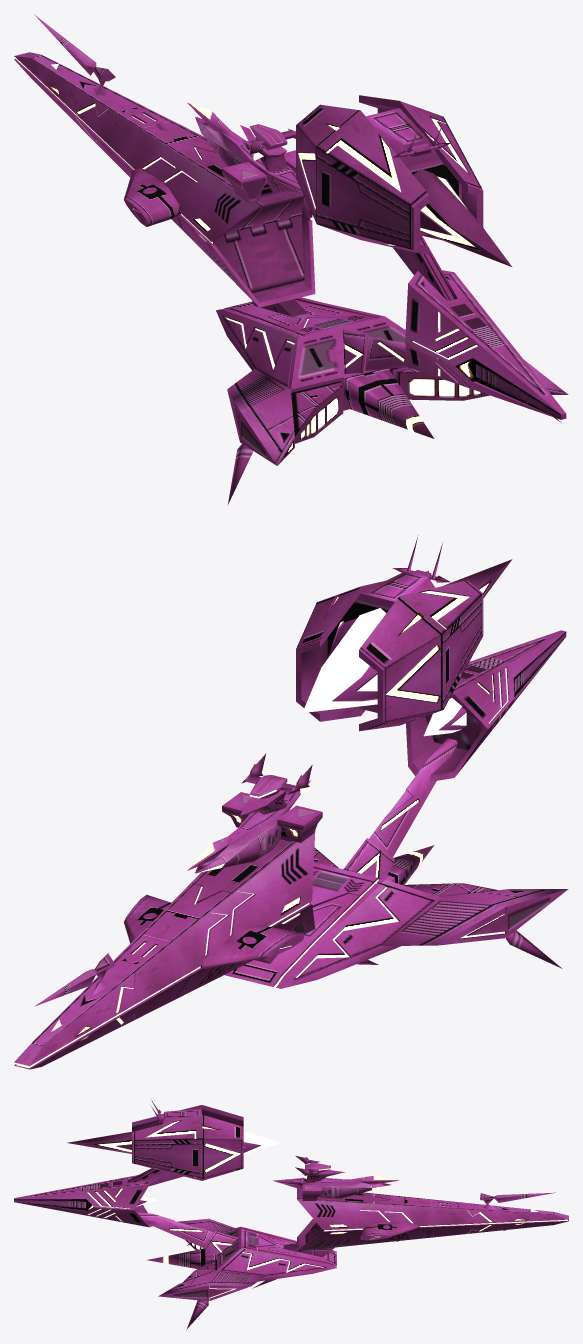
The picture shows the model from 3 angles, top to bottom: view 1: azimuth 30°, elevation 25°; view 2: azimuth 150°, elevation 25°; view 3: azimuth 270°, elevation 25°; orthographic projection. The views are drawn at different scales.
Parts seen in each view (by area): view 1: body; view 2: body; view 3: body.
Boxes of the visible parts, x1,y1,x2,y2 form: body: (14, 14, 568, 505); body: (14, 535, 568, 1069); body: (14, 1100, 568, 1329).
Bounding box in the file's own units: 71.78 × 74.61 × 201.
Materials: 1 (1 with a texture image).
